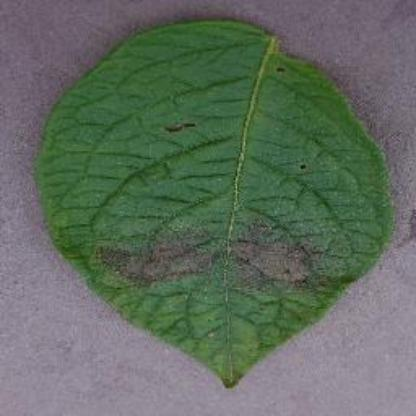Late-Blight: (48, 21, 406, 406)
